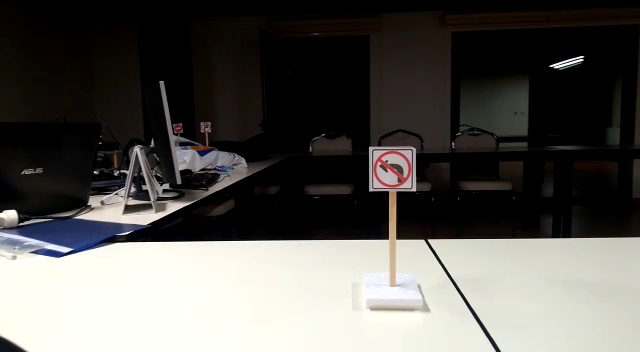sola_donulmez: (369, 147, 416, 191)
